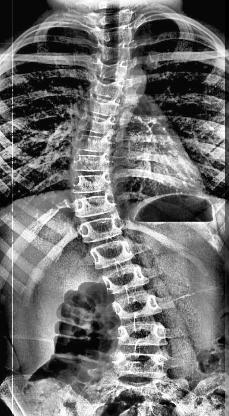Vertebrae: (108, 350, 168, 378), (119, 318, 168, 348), (90, 240, 136, 270), (76, 218, 126, 245), (103, 266, 150, 294), (70, 170, 116, 196), (78, 110, 120, 138), (73, 192, 119, 216), (89, 74, 131, 100), (73, 132, 117, 156), (116, 294, 162, 315), (72, 153, 112, 175), (89, 96, 123, 120), (95, 24, 135, 44), (97, 60, 132, 82), (99, 44, 135, 61)
